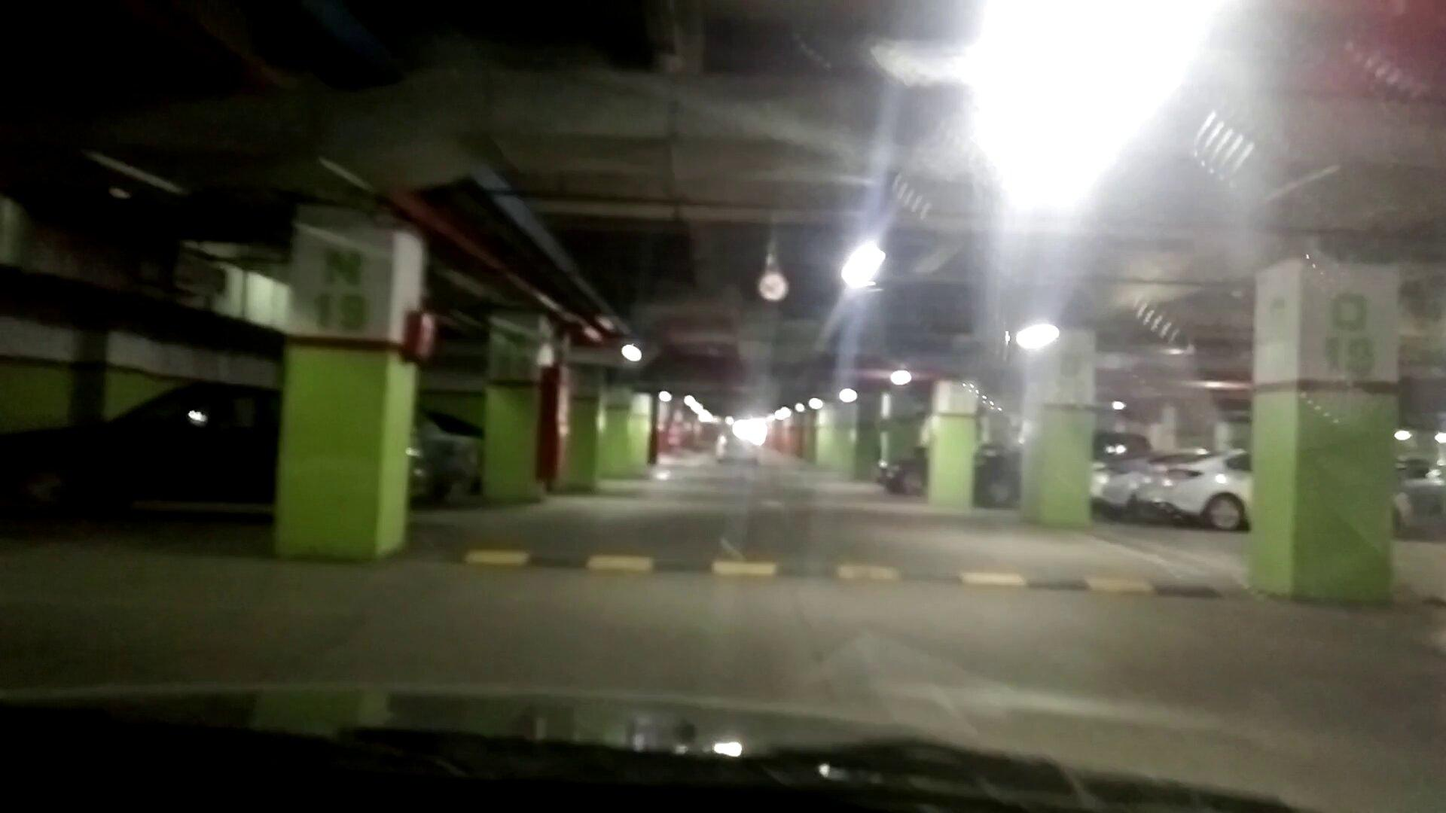Bump: (422, 550, 1280, 604)
